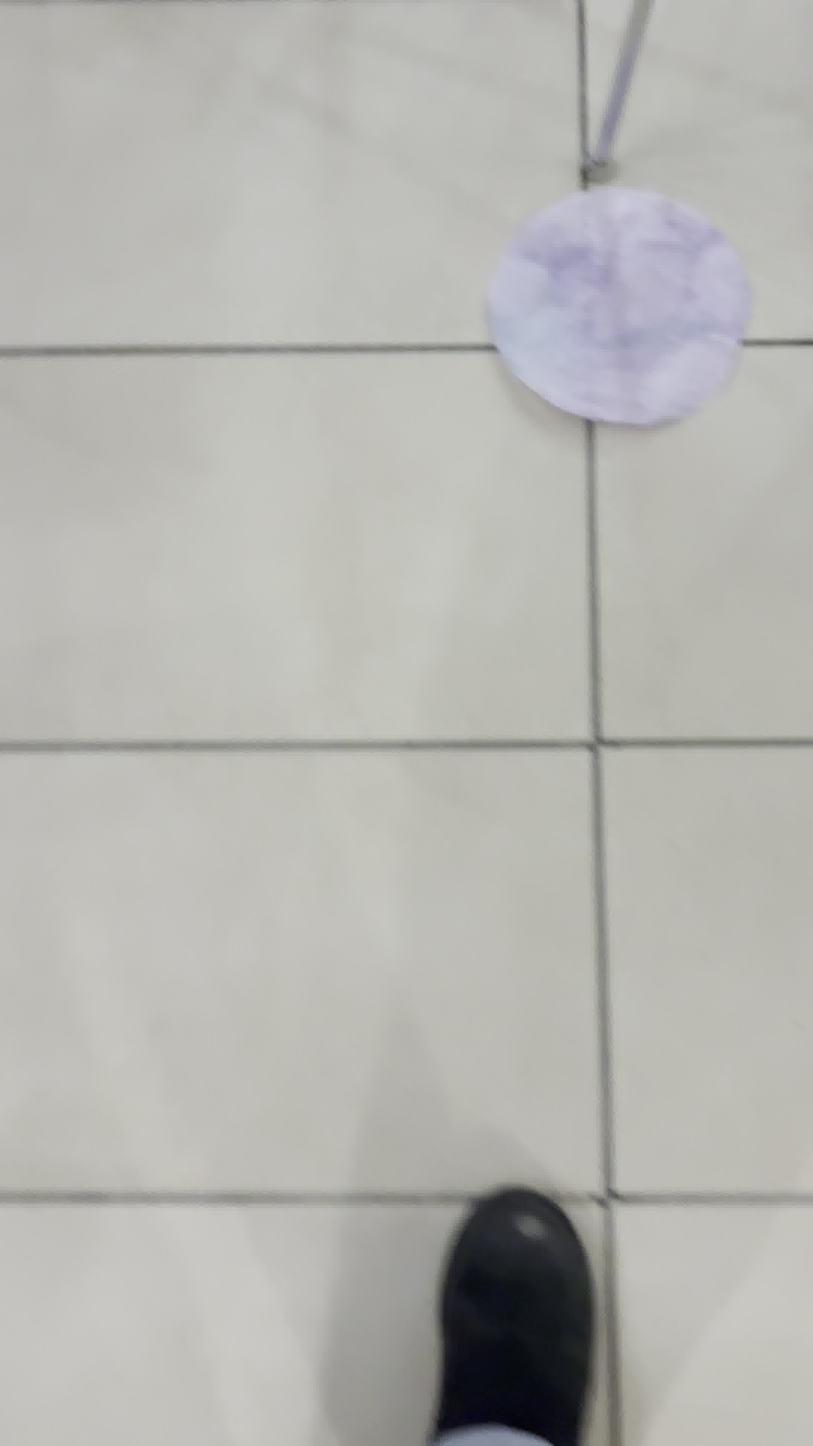Target: (484, 198, 763, 424)
